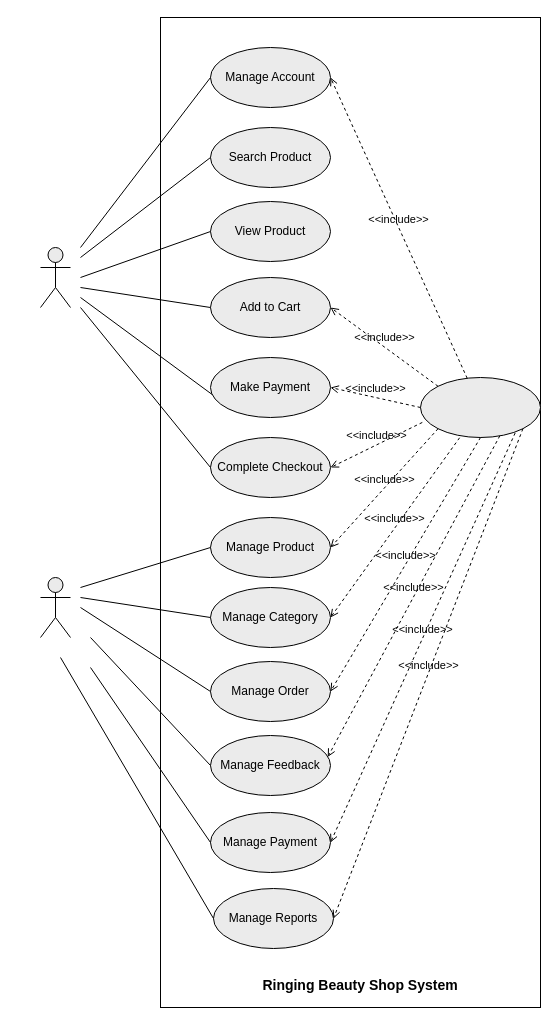
The diagram is 558 pixels wide and 1025 high, and some of its shapes have lost their labels. The box of each missing label's shape, as (x1, y1, x2, y2) in pixels:
Administration: (40, 576, 70, 638)
Customer: (40, 246, 70, 308)
Login: (420, 376, 540, 438)
